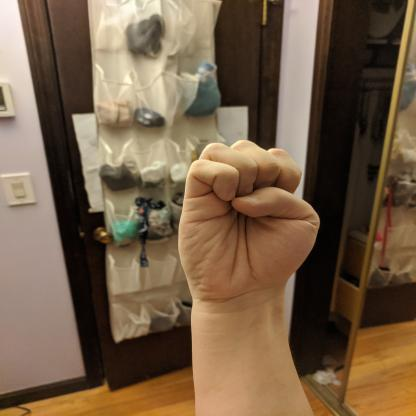E: (173, 137, 325, 306)
